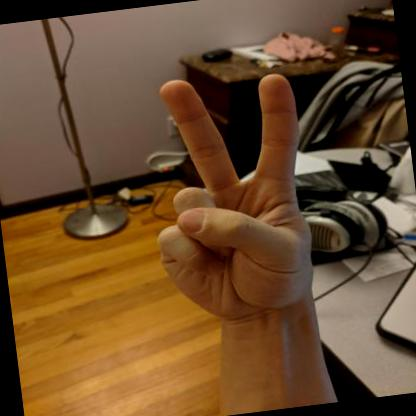V: (156, 73, 316, 325)
